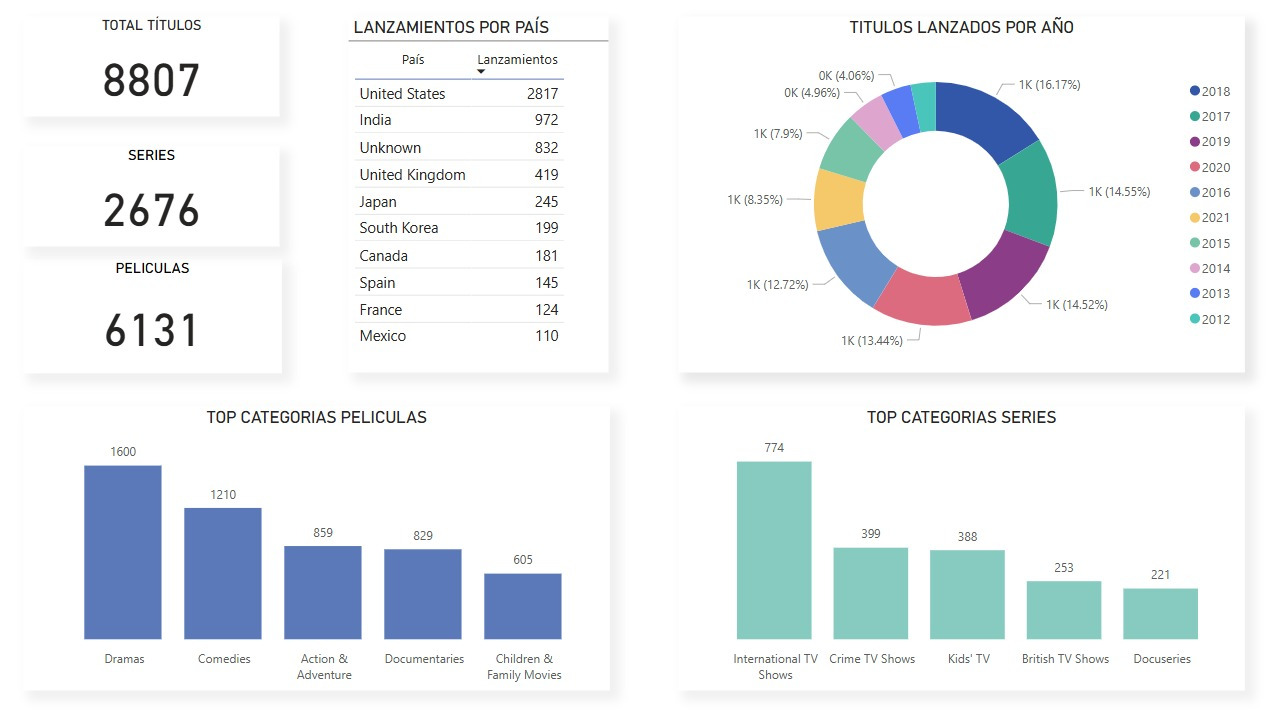

What the dashboard file says about the page in this screenshot:
{"tool":"powerbi","page":{"name":"Page 1","canvas":[1280,720],"ordinal":0},"visuals":[{"type":"card","title":"Películas","fields":{"Values":["netflix_titles.total_movies"]},"box":[5,11.7,256.7,98.3],"z":0},{"type":"card","title":"Series/Programas","fields":{"Values":["netflix_titles.total_tv_shows"]},"box":[311.5,12.3,279.9,122.1],"z":1},{"type":"card","fields":{"Values":["netflix_titles.total_rows"]},"box":[640,0,280,128.3],"z":3},{"type":"donutChart","title":"AÑOS CON MÁS LANZAMIENTOS","fields":{"Y":["netflix_titles.total_rows"],"Category":["netflix_titles.release_year"]},"box":[11.4,331.4,470,377.1],"z":5},{"type":"clusteredColumnChart","title":"CATEGORIAS X PELICULAS","fields":{"Category":["netflix_titles.category 1"],"Y":["netflix_titles.total_movies"]},"box":[768.3,81.7,500,285],"z":6},{"type":"columnChart","title":"TOP CATEGORIAS POR SERIES","fields":{"Y":["netflix_titles.total_tv_shows"],"Category":["netflix_titles.category 1"]},"box":[768.3,391.7,500,316.7],"z":7},{"type":"tableEx","fields":{"Values":["netflix_titles.country","netflix_titles.total_rows"]},"box":[495,331.7,211.7,320],"z":8}]}

Visuals, with their boxes in screenshot pixels (x1, y1, x2, y2), scaled from the page's 1280x720 canvas onto the 1270x714 screenshot:
"Películas" card: 5:12:260:109
"Series/Programas" card: 309:12:587:133
card - netflix_titles.total_rows: 635:0:913:127
"AÑOS CON MÁS LANZAMIENTOS" donutChart: 11:329:478:703
"CATEGORIAS X PELICULAS" clusteredColumnChart: 762:81:1258:364
"TOP CATEGORIAS POR SERIES" columnChart: 762:388:1258:702
tableEx - netflix_titles.country x netflix_titles.total_rows: 491:329:701:646
